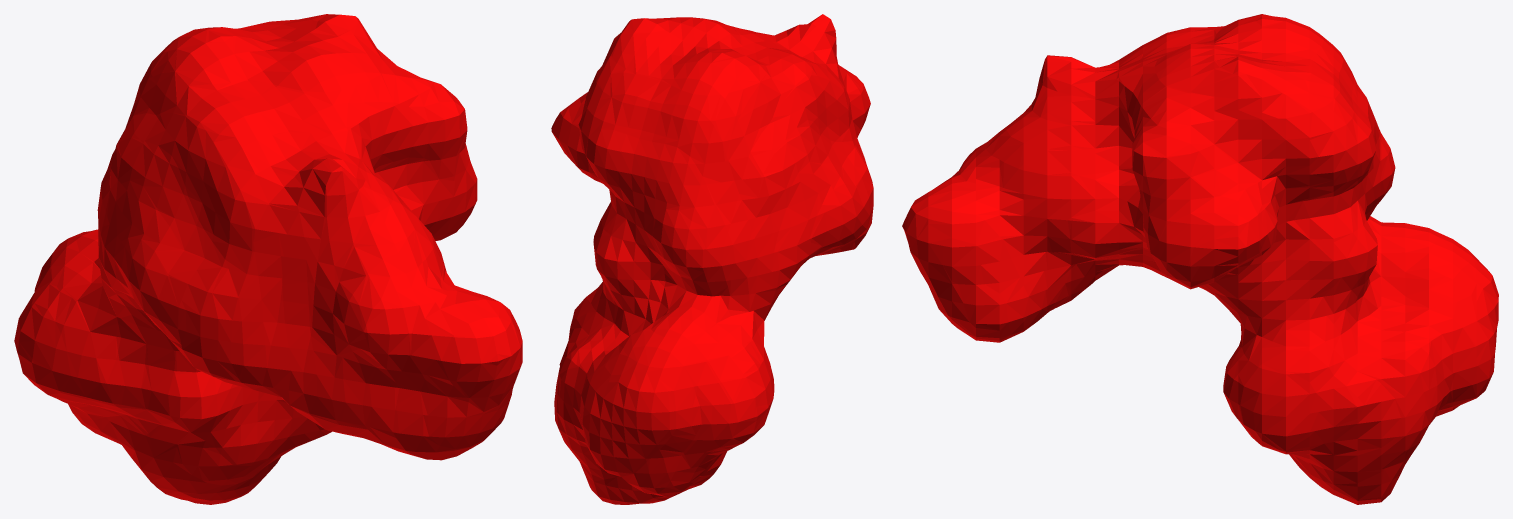
Rendered from murQ_coarse.dae.
The picture shows the model from 3 angles, left to right: view 1: azimuth 30°, elevation 25°; view 2: azimuth 150°, elevation 25°; view 3: azimuth 270°, elevation 25°; orthographic projection. The views are drawn at different scales.
Visible parts, largest first — view 1: murQ; view 2: murQ; view 3: murQ.
Boxes of the visible parts, bbox=[...] form: murQ: bbox=[14, 14, 522, 504]; murQ: bbox=[551, 14, 873, 504]; murQ: bbox=[902, 14, 1498, 504].
Size of the model in its own units: 44.36 by 64.36 by 75.61.
